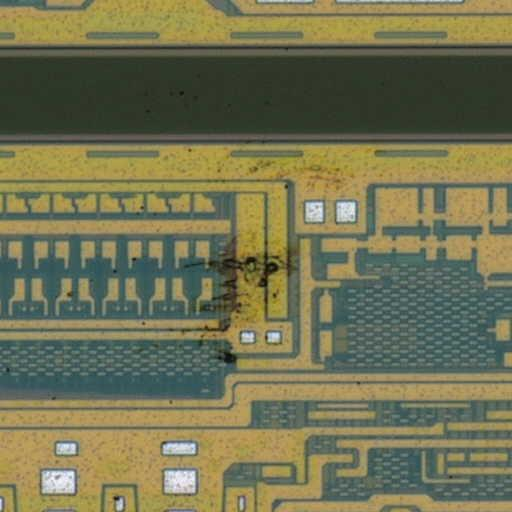PO CONTAMINATION: (1, 83, 385, 509)
